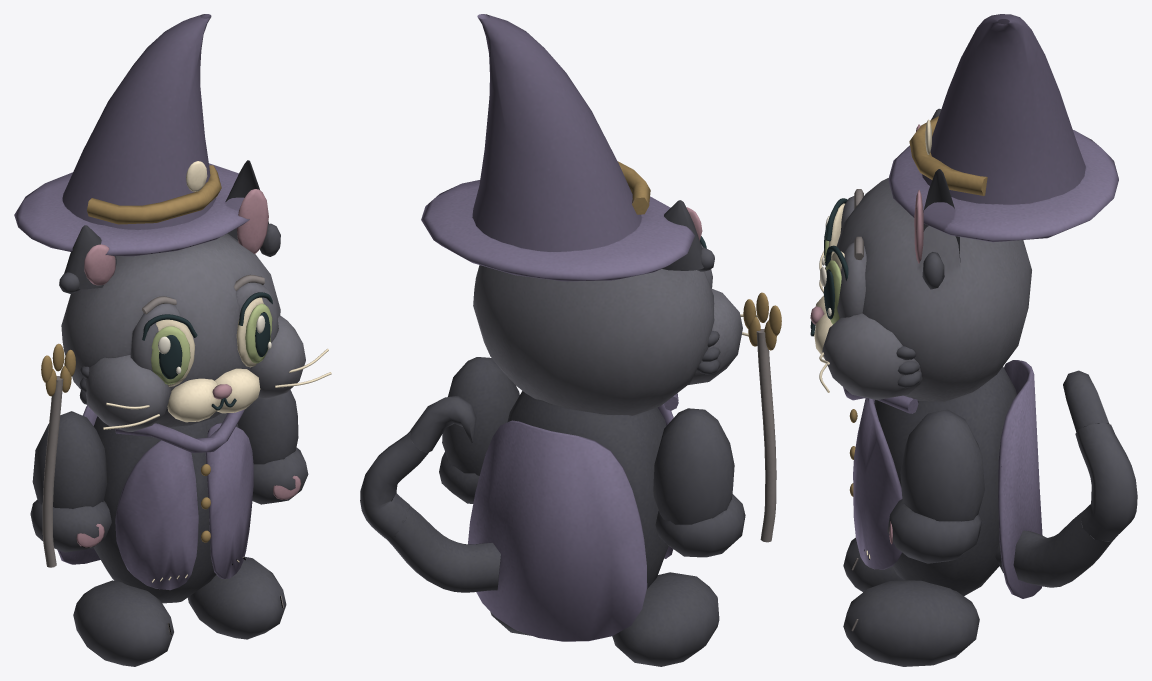
File: soot.glb
3 renders of one model, left to right at view 1: azimuth 30°, elevation 25°; view 2: azimuth 150°, elevation 25°; view 3: azimuth 270°, elevation 25°, orthographic. The views are drawn at different scales.
Visible parts, largest first — view 1: cheek-head, hat-brim, pear-body, arm, hind-paw, arm.001, hind-paw.001, porcelain-eye, wand, rounded-ear-R, rounded-ear-L; view 2: pear-body, hat-brim, cheek-head, arm, hind-paw, arm.001, tail-root, wand, tail-mid, tail-tip, rounded-ear-L; view 3: cheek-head, hat-brim, pear-body, arm.001, hind-paw.001, tail-mid, tail-root, porcelain-eye, rounded-ear-R, tail-tip, hind-paw.
Part boxes in pixels (<box>): cheek-head: <box>61,233,331,431</box>; hat-brim: <box>14,14,249,256</box>; pear-body: <box>57,405,253,603</box>; arm: <box>30,411,111,552</box>; hind-paw: <box>73,580,173,666</box>; arm.001: <box>237,389,308,504</box>; hind-paw.001: <box>187,557,286,639</box>; porcelain-eye: <box>142,292,272,386</box>; wand: <box>41,343,75,567</box>; rounded-ear-R: <box>225,160,280,256</box>; rounded-ear-L: <box>59,225,116,293</box>; pear-body: <box>468,391,678,641</box>; hat-brim: <box>421,14,694,281</box>; cheek-head: <box>473,244,768,415</box>; arm: <box>653,408,745,557</box>; hind-paw: <box>612,572,719,666</box>; arm.001: <box>439,357,519,503</box>; tail-root: <box>386,506,500,592</box>; wand: <box>743,292,781,542</box>; tail-mid: <box>360,431,429,539</box>; tail-tip: <box>410,395,476,452</box>; rounded-ear-L: <box>662,200,714,271</box>; cheek-head: <box>814,178,1031,401</box>; hat-brim: <box>888,14,1118,242</box>; pear-body: <box>843,360,1042,598</box>; arm.001: <box>887,409,984,563</box>; hind-paw.001: <box>843,580,979,666</box>; tail-mid: <box>1075,423,1137,541</box>; tail-root: <box>995,510,1117,587</box>; porcelain-eye: <box>820,198,848,324</box>; rounded-ear-R: <box>914,169,960,289</box>; tail-tip: <box>1063,370,1109,431</box>; hind-paw: <box>843,537,903,592</box>.
Bounding box in the file's own units: 0.9147 × 1.8 × 0.8259.
1 material, 1 textured.
